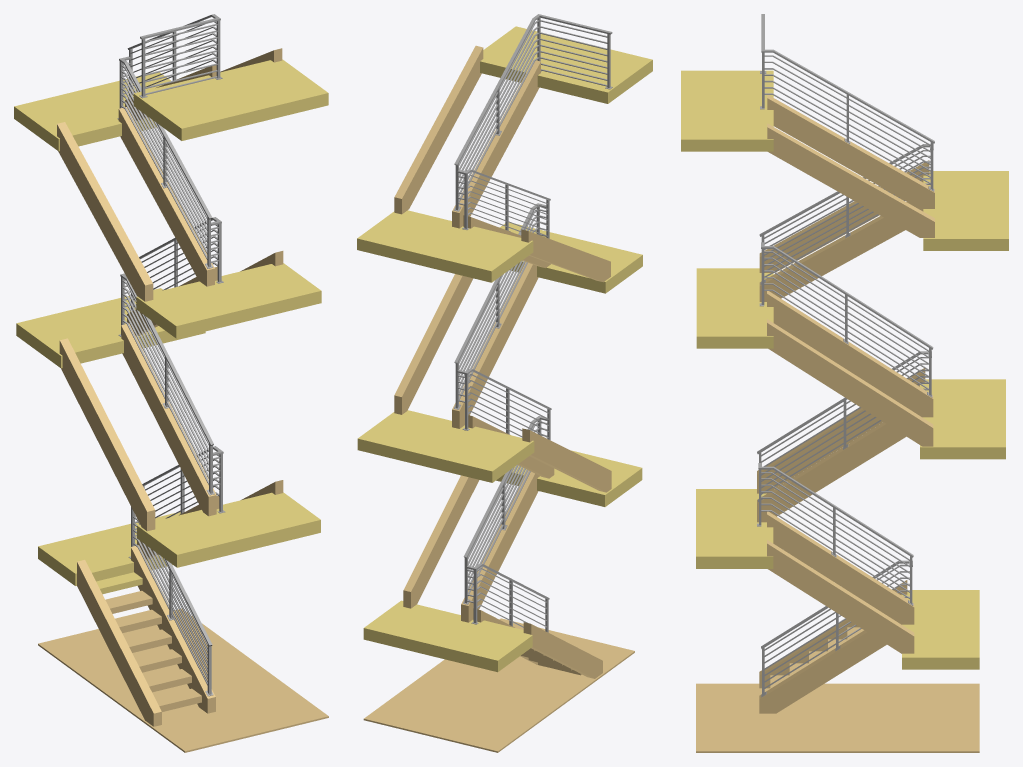
The model's file is scene_BTA6iQPvof.glb.
The picture shows the model from 3 angles, left to right: view 1: azimuth 30°, elevation 25°; view 2: azimuth 150°, elevation 25°; view 3: azimuth 270°, elevation 25°; orthographic projection. The views are drawn at different scales.
Parts seen in each view (by area): view 1: Mesh6 Group6 Group1 Model, Mesh30 Group22 Group1 Model, Mesh29 Group21 Group1 Model, Mesh27 Group19 Group1 Model, Mesh28 Group20 Group1 Model, Mesh31 Group23 Group1 Model, Mesh15 Group15 Group1 Model, Mesh4 Group4 Group1 Model, Mesh34 Group26 Group1 Model, Mesh5 Group5 Group1 Model, Mesh35 Group27 Group1 Model, Mesh17 Group17 Group1 Model (+9 smaller); view 2: Mesh6 Group6 Group1 Model, Mesh28 Group20 Group1 Model, Mesh31 Group23 Group1 Model, Mesh15 Group15 Group1 Model, Mesh30 Group22 Group1 Model, Mesh32 Group24 Group1 Model, Mesh2 Group2 Group1 Model, Mesh3 Group3 Group1 Model, Mesh33 Group25 Group1 Model, Mesh29 Group21 Group1 Model, Mesh27 Group19 Group1 Model, Mesh7 Group7 Group1 Model (+9 smaller); view 3: Mesh6 Group6 Group1 Model, Mesh30 Group22 Group1 Model, Mesh31 Group23 Group1 Model, Mesh28 Group20 Group1 Model, Mesh29 Group21 Group1 Model, Mesh15 Group15 Group1 Model, Mesh27 Group19 Group1 Model, Mesh2 Group2 Group1 Model, Mesh3 Group3 Group1 Model, Mesh32 Group24 Group1 Model, Mesh33 Group25 Group1 Model, Mesh7 Group7 Group1 Model (+10 smaller).
Boxes of the visible parts, x1,y1,x2,y2 form: Mesh6 Group6 Group1 Model: [38, 608, 328, 752]; Mesh30 Group22 Group1 Model: [133, 59, 328, 140]; Mesh29 Group21 Group1 Model: [136, 263, 321, 338]; Mesh27 Group19 Group1 Model: [137, 492, 320, 567]; Mesh28 Group20 Group1 Model: [16, 288, 205, 368]; Mesh31 Group23 Group1 Model: [14, 72, 170, 151]; Mesh15 Group15 Group1 Model: [38, 512, 180, 594]; Mesh4 Group4 Group1 Model: [59, 338, 155, 531]; Mesh34 Group26 Group1 Model: [57, 122, 153, 301]; Mesh5 Group5 Group1 Model: [121, 323, 216, 516]; Mesh35 Group27 Group1 Model: [118, 107, 214, 286]; Mesh17 Group17 Group1 Model: [77, 560, 161, 726]; Mesh6 Group6 Group1 Model: [363, 618, 634, 752]; Mesh28 Group20 Group1 Model: [357, 410, 534, 482]; Mesh31 Group23 Group1 Model: [357, 210, 533, 282]; Mesh15 Group15 Group1 Model: [363, 600, 532, 672]; Mesh30 Group22 Group1 Model: [480, 26, 652, 103]; Mesh32 Group24 Group1 Model: [394, 45, 483, 214]; Mesh2 Group2 Group1 Model: [394, 274, 473, 414]; Mesh3 Group3 Group1 Model: [452, 262, 538, 428]; Mesh33 Group25 Group1 Model: [452, 59, 540, 228]; Mesh29 Group21 Group1 Model: [500, 222, 642, 293]; Mesh27 Group19 Group1 Model: [496, 450, 642, 506]; Mesh7 Group7 Group1 Model: [403, 475, 479, 608]; Mesh6 Group6 Group1 Model: [696, 683, 979, 752]; Mesh30 Group22 Group1 Model: [681, 70, 773, 151]; Mesh31 Group23 Group1 Model: [923, 171, 1008, 250]; Mesh28 Group20 Group1 Model: [920, 379, 1005, 459]; Mesh29 Group21 Group1 Model: [696, 268, 773, 348]; Mesh15 Group15 Group1 Model: [901, 590, 979, 669]; Mesh27 Group19 Group1 Model: [696, 489, 773, 568]; Mesh2 Group2 Group1 Model: [767, 319, 933, 446]; Mesh3 Group3 Group1 Model: [767, 291, 933, 417]; Mesh32 Group24 Group1 Model: [767, 123, 934, 237]; Mesh33 Group25 Group1 Model: [767, 95, 934, 208]; Mesh7 Group7 Group1 Model: [767, 540, 914, 653].
Size of the model in its own units: 98.06 by 419 by 187.
